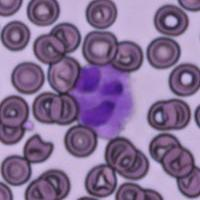E: (68, 63, 138, 139)
